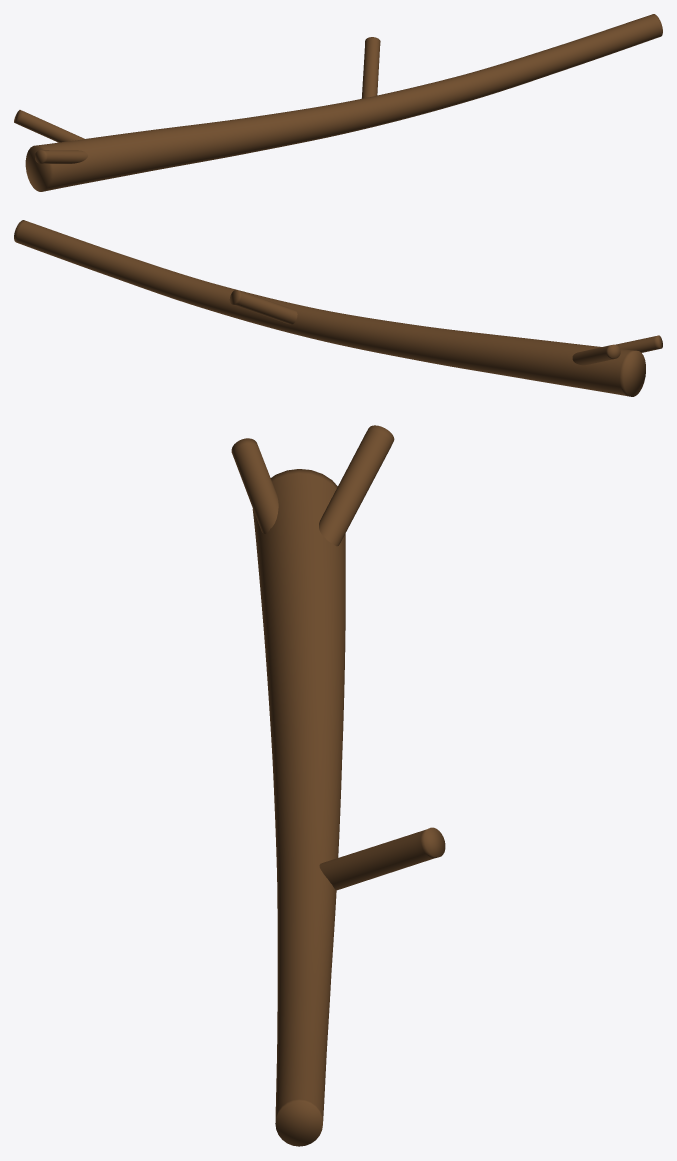
Rendered from stick_base.glb.
3 renders of one model, top to bottom at view 1: azimuth 30°, elevation 25°; view 2: azimuth 150°, elevation 25°; view 3: azimuth 270°, elevation 25°, orthographic. The views are drawn at different scales.
Visible parts, largest first — view 1: Shaft, Branch1, ForkA, ForkB; view 2: Shaft, Branch1, ForkA, ForkB; view 3: Shaft, Branch1, ForkA, ForkB.
Part boxes in pixels (left/top/right/bottom): Shaft: left=25, top=14, right=662, bottom=191; Branch1: left=361, top=37, right=380, bottom=98; ForkA: left=14, top=110, right=84, bottom=142; ForkB: left=35, top=150, right=87, bottom=163; Shaft: left=14, top=220, right=645, bottom=396; Branch1: left=229, top=289, right=297, bottom=324; ForkA: left=572, top=344, right=620, bottom=365; ForkB: left=615, top=335, right=662, bottom=352; Shaft: left=252, top=469, right=345, bottom=1146; Branch1: left=319, top=827, right=445, bottom=890; ForkA: left=319, top=425, right=394, bottom=546; ForkB: left=231, top=438, right=278, bottom=533.
Bounding box in the file's own units: 0.5329 × 0.0668 × 0.0784.
